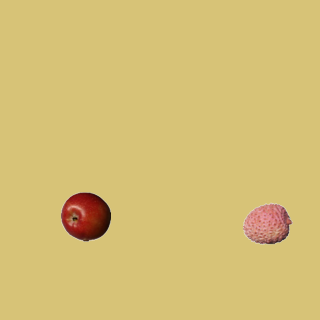Apple Braeburn: (60, 191, 110, 241)
Lychee: (242, 198, 292, 248)
